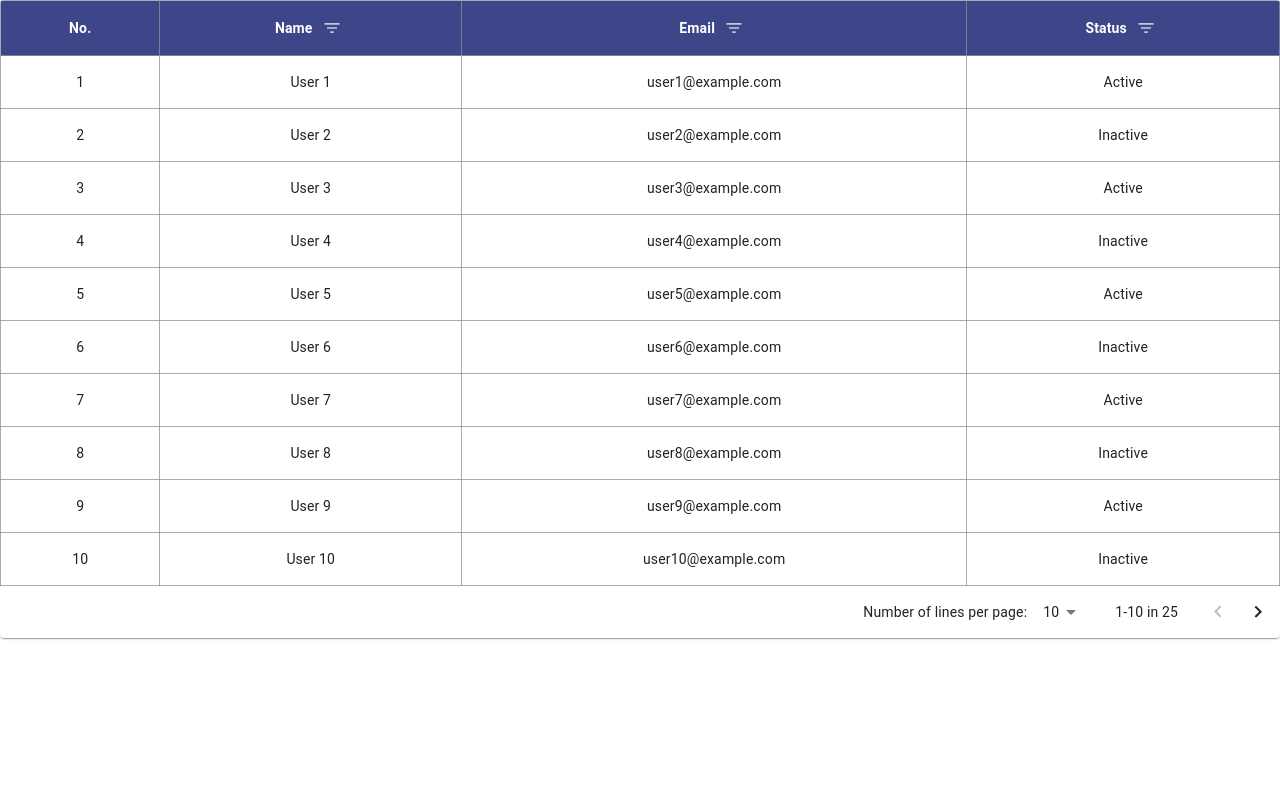
Test: DataTable Component - Comprehensive Tests › Pagination › resets to page 0 when rows per page changes
The width and height of the screenshot is (1280, 800).
// Go to page 2
Click the button named "next page": (1258, 612) [1238, 592, 1278, 632]
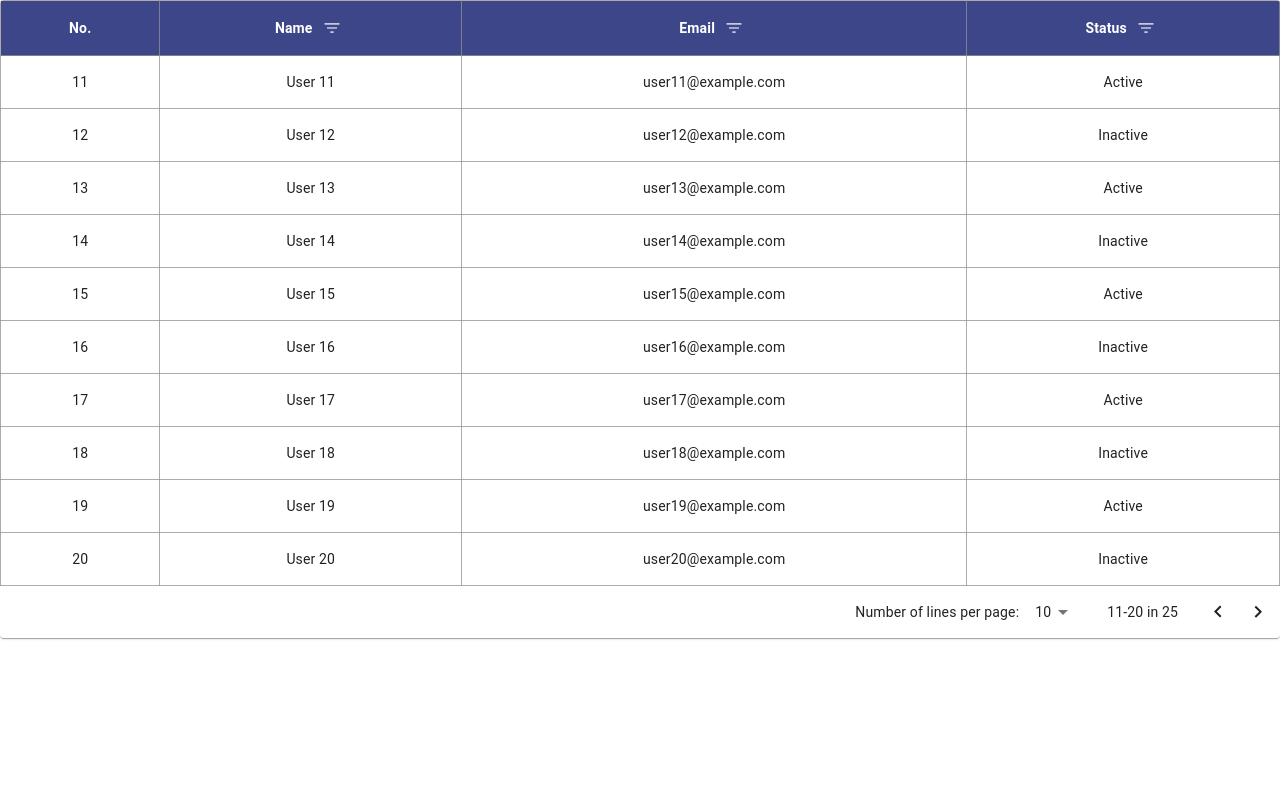
// Change rows per page
Click the dropdown: (1043, 612) [1035, 604, 1051, 620]
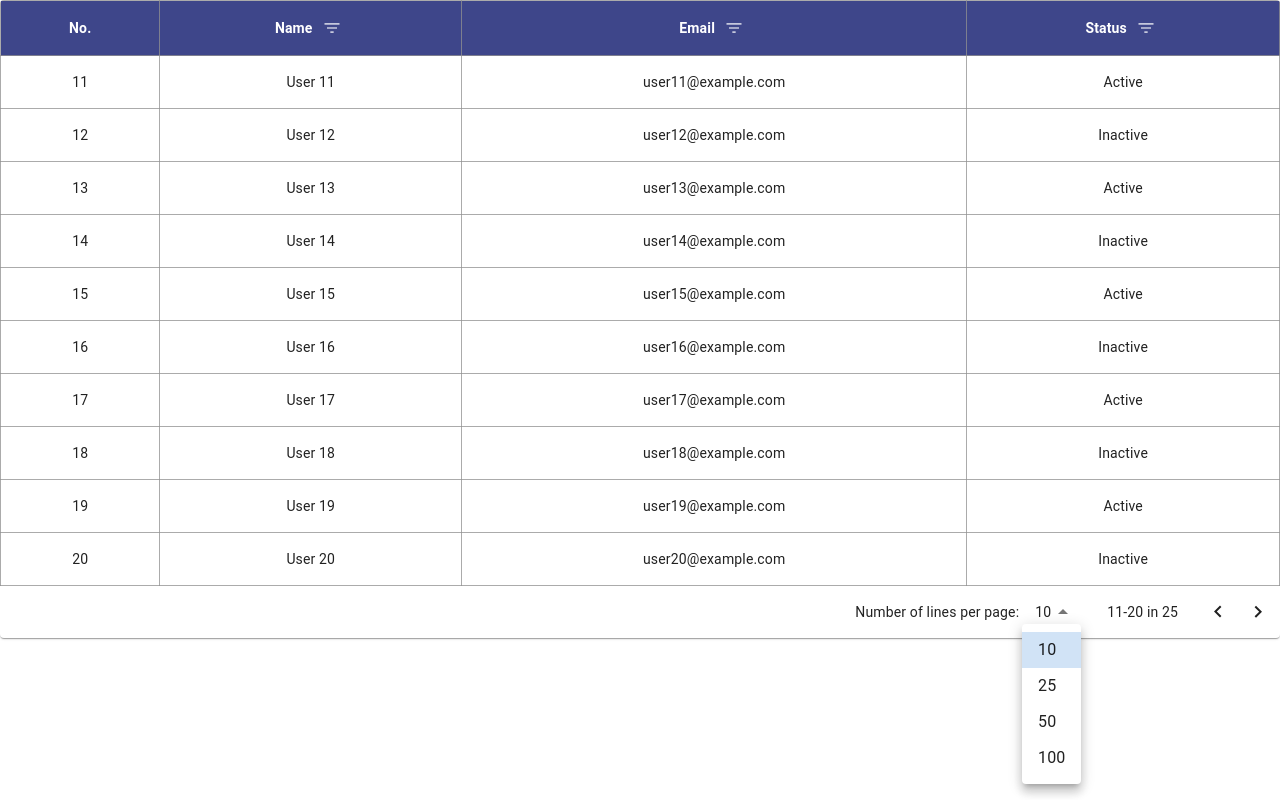
Click the option "25": (1047, 686) [1038, 676, 1056, 695]
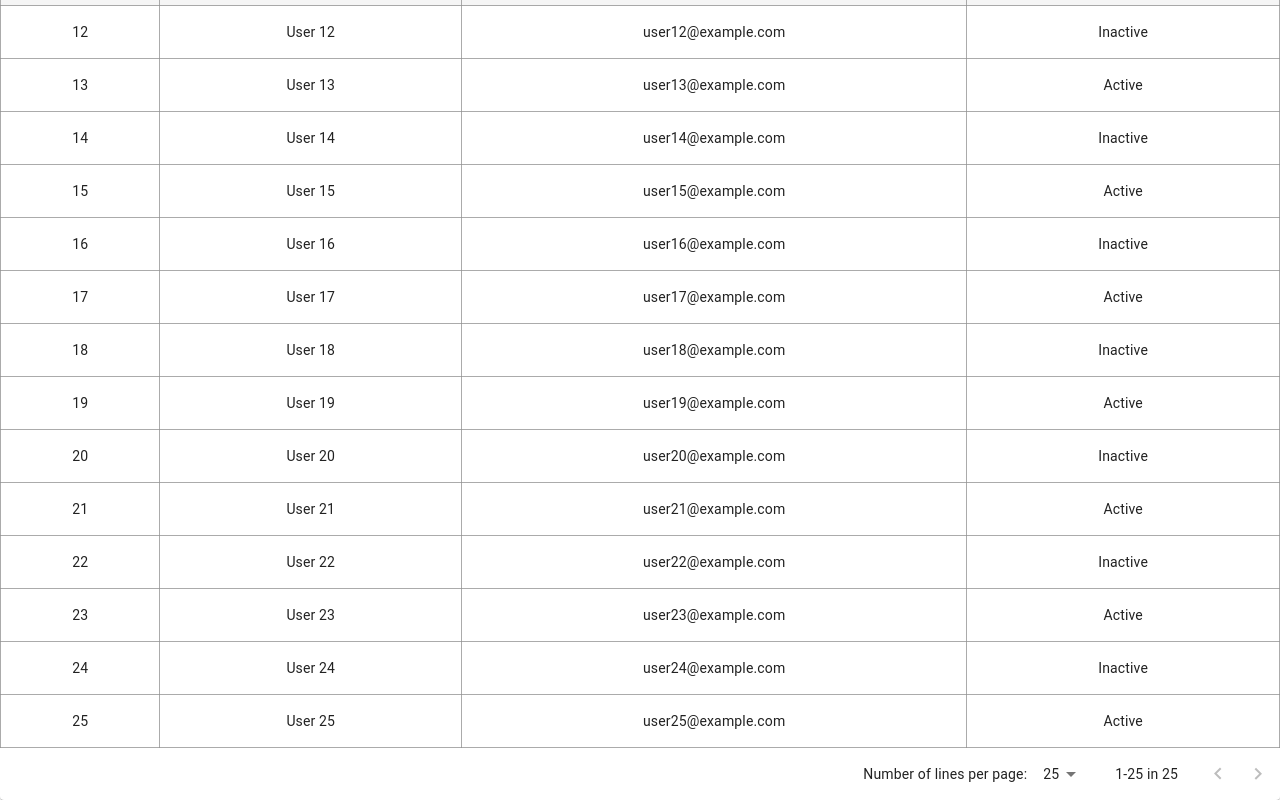
expect the text "1-25 in 25" is shown: met, box [1115, 764, 1178, 784]
